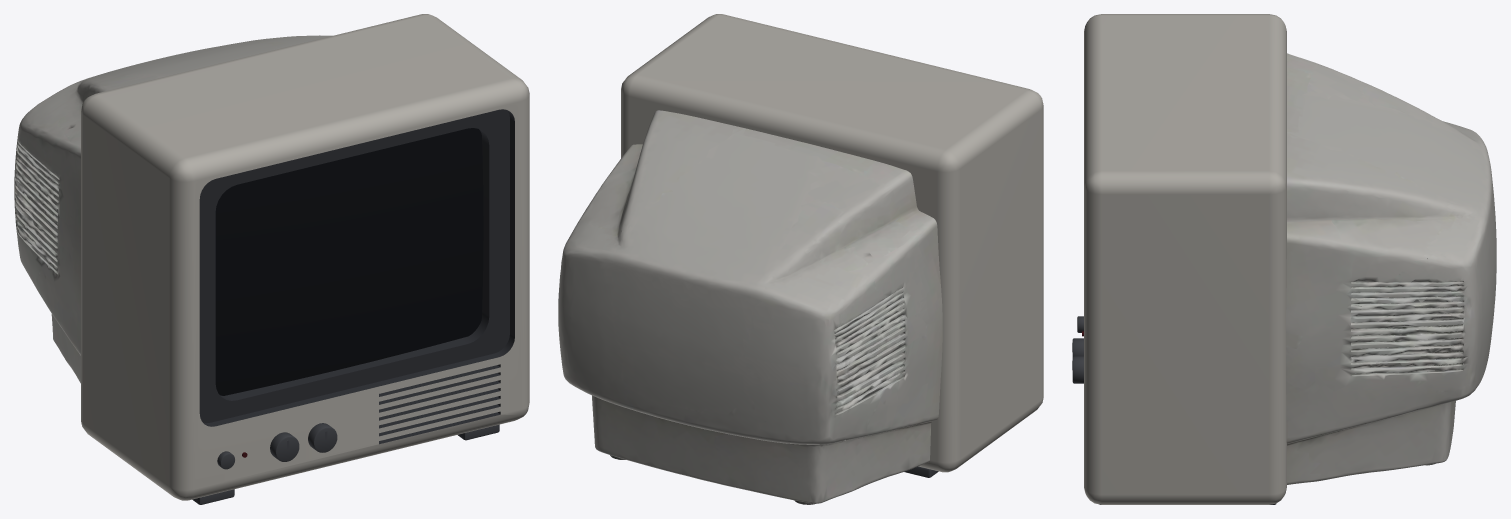
3 renders of one model, left to right at view 1: azimuth 30°, elevation 25°; view 2: azimuth 150°, elevation 25°; view 3: azimuth 270°, elevation 25°, orthographic. The views are drawn at different scales.
Parts seen in each view (by area): view 1: TV_Front, TV_Screen, TV_Rear, TV_Knob_A, TV_Knob_B; view 2: TV_Rear, TV_Front; view 3: TV_Front, TV_Rear.
Boxes of the visible parts, x1,y1,x2,y2 form: TV_Front: [81, 14, 529, 504]; TV_Screen: [215, 128, 483, 395]; TV_Rear: [14, 35, 332, 383]; TV_Knob_A: [270, 432, 299, 461]; TV_Knob_B: [308, 423, 337, 452]; TV_Rear: [558, 110, 942, 504]; TV_Front: [621, 14, 1043, 477]; TV_Front: [1084, 14, 1286, 504]; TV_Rear: [1286, 53, 1496, 484].
Size of the model in its own units: 0.5 by 0.467 by 0.5268.
6 materials, 1 textured.
